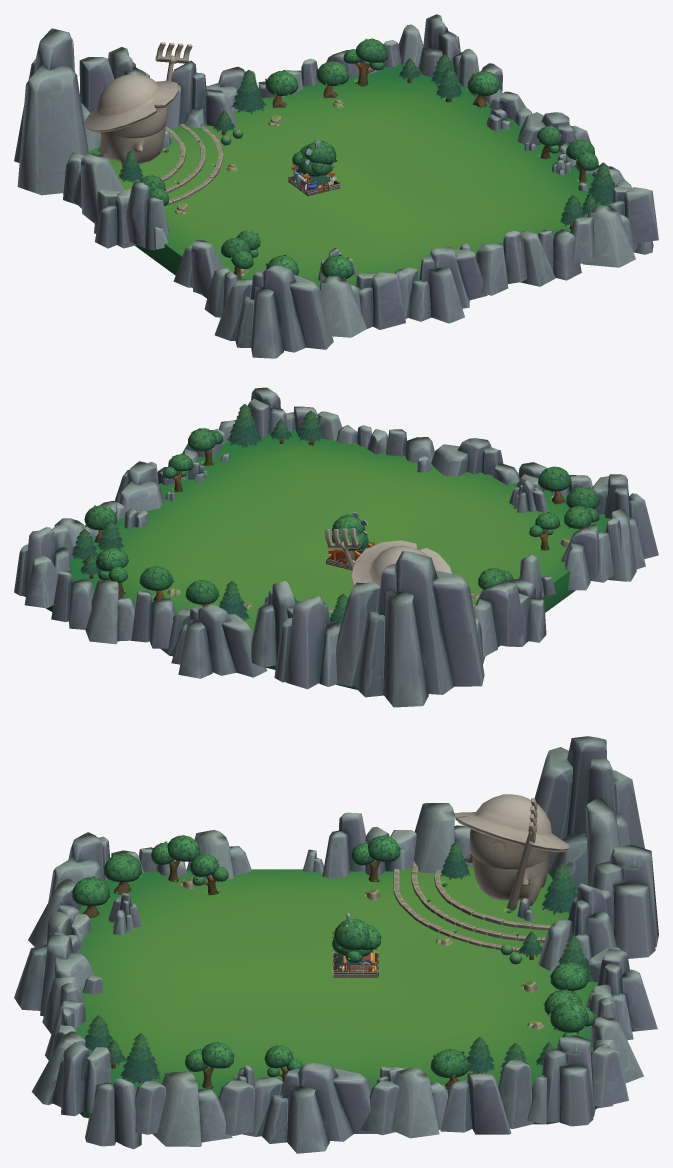
File: Island.fbx
3 views of the same model, one above another, from view 1: azimuth 30°, elevation 25°; view 2: azimuth 150°, elevation 25°; view 3: azimuth 270°, elevation 25° (orthographic). The views are drawn at different scales.
Visible parts, largest first — view 1: Land_mesh, Statue_mesh, TreesA03_mesh1, TreesB02_mesh, TreesA01_mesh2, TreesA02_mesh, TreesA02_mesh1, TreesA01_mesh1, TreesA02_mesh4, TreesB02_mesh1, TreesA03_mesh, TreesA02_mesh3 (+3 smaller); view 2: Land_mesh, Statue_mesh, TreesA03_mesh (×2), TreesA03_mesh1, TreesB02_mesh1, Stone08_mesh, TreesA02_mesh3, TreesA01_mesh2, TreesA02_mesh1, TreesA02_mesh, TreesA02_mesh4, TreesA03_mesh2 (+7 smaller); view 3: Land_mesh, Statue_mesh, TreesA03_mesh (×2), TreesA01_mesh, TreesA01_mesh2, TreesA01_mesh1, TreesB02_mesh1, TreesA03_mesh1, TreesB02_mesh2, TreesA02_mesh2, TreesA02_mesh3, TreesA02_mesh4 (+7 smaller).
Part boxes in pixels (left/top/right/bottom): Land_mesh: left=14, top=14, right=658, bottom=358; Statue_mesh: left=84, top=42, right=192, bottom=165; TreesA03_mesh1: left=343, top=38, right=388, bottom=86; TreesB02_mesh: left=231, top=70, right=266, bottom=114; TreesA01_mesh2: left=566, top=138, right=598, bottom=182; TreesA02_mesh: left=265, top=70, right=298, bottom=108; TreesA02_mesh1: left=316, top=60, right=349, bottom=98; TreesA01_mesh1: left=221, top=236, right=253, bottom=279; TreesA02_mesh4: left=466, top=71, right=500, bottom=107; TreesB02_mesh1: left=585, top=162, right=615, bottom=205; TreesA03_mesh: left=292, top=140, right=337, bottom=171; TreesA02_mesh3: left=321, top=254, right=353, bottom=279; Land_mesh: left=14, top=387, right=658, bottom=707; Statue_mesh: left=325, top=528, right=451, bottom=586; TreesA03_mesh (×2): left=332, top=512, right=560, bottom=550; TreesA03_mesh1: left=95, top=546, right=128, bottom=596; TreesB02_mesh1: left=227, top=404, right=262, bottom=448; Stone08_mesh: left=509, top=480, right=548, bottom=513; TreesA02_mesh3: left=538, top=466, right=571, bottom=504; TreesA01_mesh2: left=188, top=428, right=223, bottom=466; TreesA02_mesh1: left=139, top=566, right=174, bottom=601; TreesA02_mesh: left=185, top=580, right=219, bottom=606; TreesA02_mesh4: left=84, top=505, right=117, bottom=542; TreesA03_mesh2: left=162, top=453, right=193, bottom=492; Land_mesh: left=14, top=736, right=658, bottom=1153; Statue_mesh: left=454, top=794, right=569, bottom=910; TreesA03_mesh (×2): left=190, top=853, right=379, bottom=962; TreesA01_mesh: left=351, top=835, right=401, bottom=882; TreesA01_mesh2: left=185, top=1042, right=235, bottom=1088; TreesA01_mesh1: left=151, top=835, right=201, bottom=881; TreesB02_mesh1: left=120, top=1033, right=160, bottom=1083; TreesA03_mesh1: left=548, top=1001, right=595, bottom=1036; TreesB02_mesh2: left=542, top=863, right=577, bottom=914; TreesA02_mesh2: left=103, top=852, right=141, bottom=894; TreesA02_mesh3: left=71, top=876, right=110, bottom=918; TreesA02_mesh4: left=430, top=1049, right=470, bottom=1089.
Size of the model in its own units: 572 by 182 by 572.
